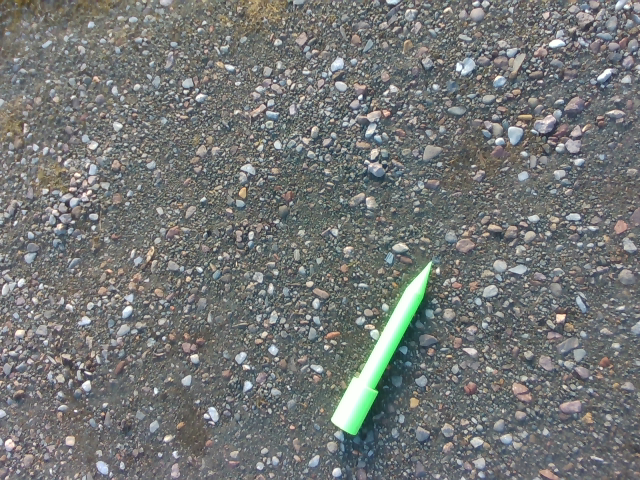Probe: (326, 250, 437, 441)
